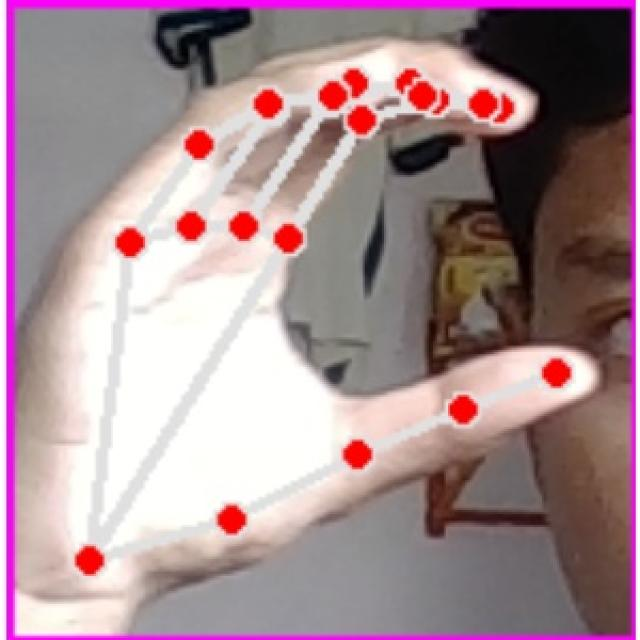C: (35, 28, 614, 608)
